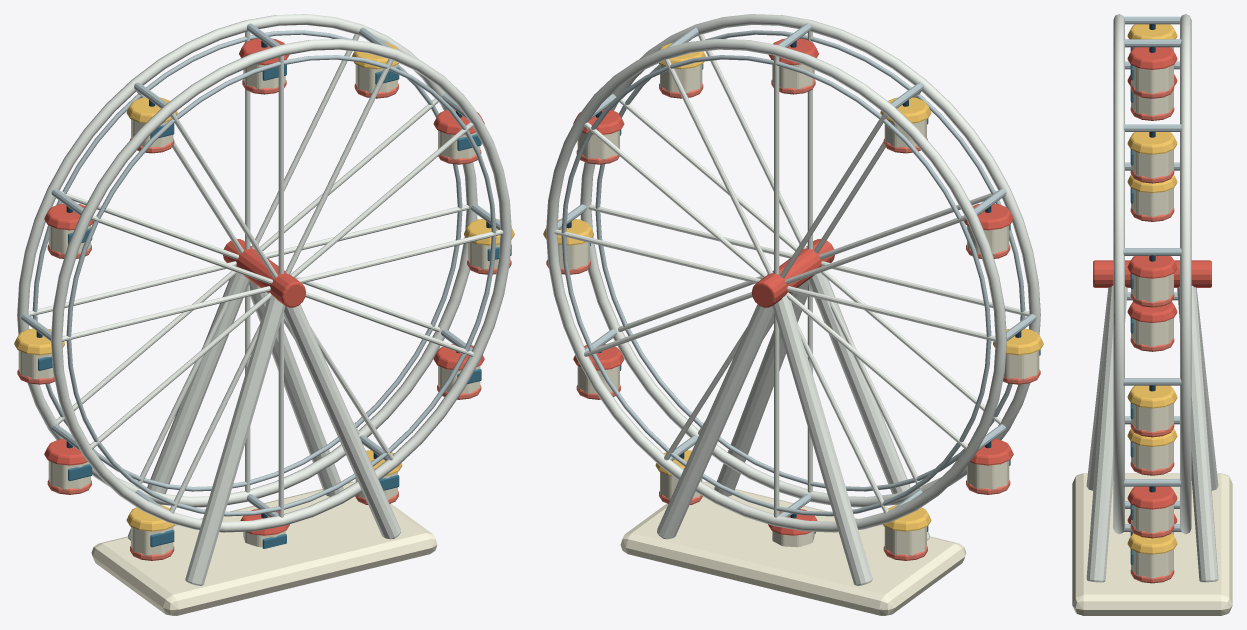
Rendered from wheel.glb.
3 renders of one model, left to right at view 1: azimuth 30°, elevation 25°; view 2: azimuth 150°, elevation 25°; view 3: azimuth 270°, elevation 25°, orthographic.
Visible parts, largest first — view 1: WheelFoundation, OuterRim, OuterRim.001, InnerRim, SupportLeg, InnerRim.001, SupportLeg.001, SupportLeg.002, SupportLeg.003, WheelAxle, Spoke.001, Spoke.002 (+29 smaller); view 2: WheelFoundation, OuterRim.001, OuterRim, InnerRim.001, SupportLeg.002, InnerRim, SupportLeg.003, SupportLeg, SupportLeg.001, WheelAxle, Spoke.013, Spoke.014 (+31 smaller); view 3: WheelFoundation, OuterRim, OuterRim.001, SupportLeg.001, SupportLeg.003, WheelAxle, Cabin_00, Cabin_01, Cabin_02, Cabin_04, Cabin_05, Cabin_07 (+32 smaller).
Boxes of the visible parts, x1,y1,x2,y2 form: WheelFoundation: (91,481,437,615); OuterRim: (51,39,511,532); OuterRim.001: (17,14,477,507); InnerRim: (66,55,496,516); SupportLeg: (185,294,285,585); InnerRim.001: (32,30,462,491); SupportLeg.001: (283,304,400,539); SupportLeg.002: (128,272,250,540); SupportLeg.003: (249,280,343,496); WheelAxle: (223,239,305,307); Spoke.001: (285,59,393,274); Spoke.002: (290,122,473,277); WheelFoundation: (620,481,966,615); OuterRim.001: (546,39,1006,532); OuterRim: (580,14,1040,507); InnerRim.001: (561,55,991,516); SupportLeg.002: (772,294,872,585); InnerRim: (595,30,1025,491); SupportLeg.003: (657,304,774,539); SupportLeg: (807,272,929,540); SupportLeg.001: (714,280,808,496); WheelAxle: (752,239,834,307); Spoke.013: (664,59,772,274); Spoke.014: (584,122,767,277); WheelFoundation: (1072,473,1232,615); OuterRim: (1113,14,1124,534); OuterRim.001: (1180,14,1191,534); SupportLeg.001: (1086,285,1127,582); SupportLeg.003: (1177,285,1218,582); WheelAxle: (1093,260,1211,287); Cabin_00: (1131,65,1173,93); Cabin_01: (1131,149,1173,178); Cabin_02: (1131,273,1173,302); Cabin_04: (1131,504,1173,533); Cabin_05: (1131,549,1173,578); Cabin_07: (1131,442,1173,470).
Bounding box in the file's own units: 4.88 × 4.97 × 1.4.
